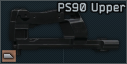FN PS90 upper receiver: (0, 0, 127, 64)
